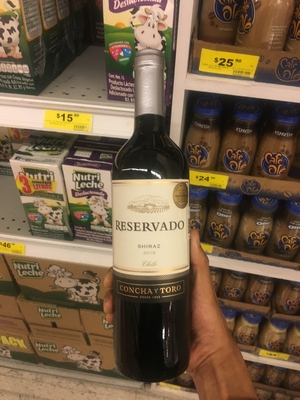reservado shiraz: (107, 49, 205, 369)
